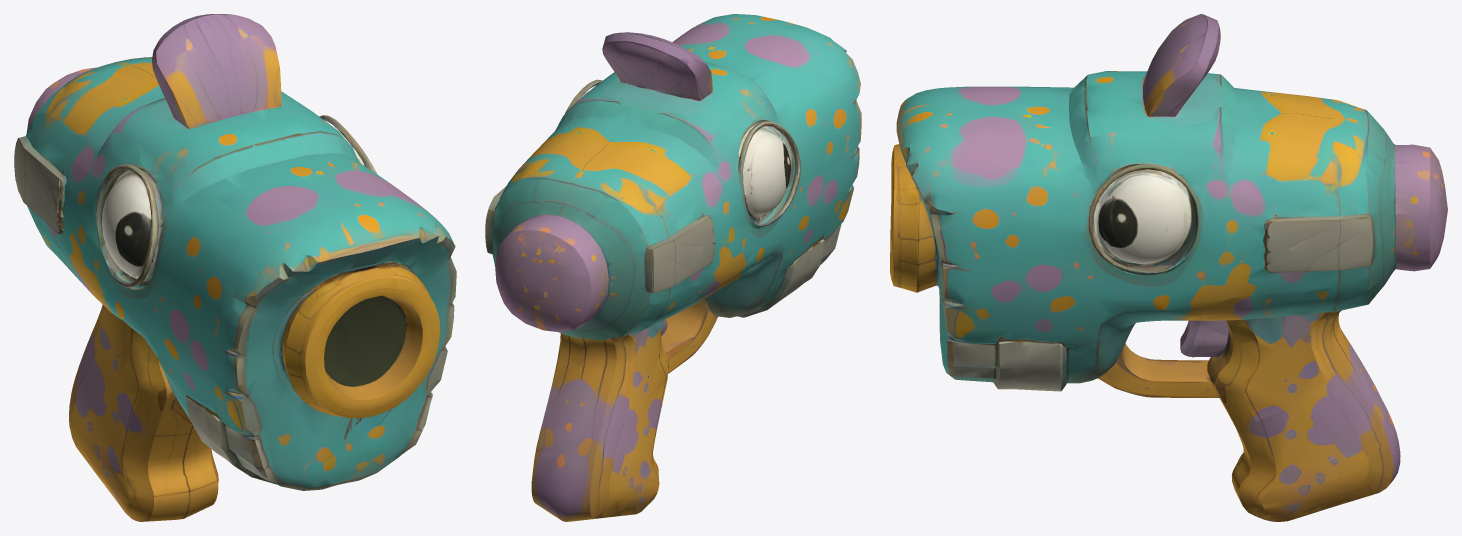
Rendered from ShortCartoonGun.fbx.
3 views of the same model, side by side, from view 1: azimuth 30°, elevation 25°; view 2: azimuth 150°, elevation 25°; view 3: azimuth 270°, elevation 25° (orthographic). The views are drawn at different scales.
Visible parts, largest first — view 1: model; view 2: model; view 3: model.
Part boxes in pixels (x1,y1,x2,y2): model: (14,14,456,521); model: (485,14,861,521); model: (890,14,1447,521).
Size of the model in its own units: 36.79 by 74.05 by 76.18.
Materials: 1 (1 with a texture image).
